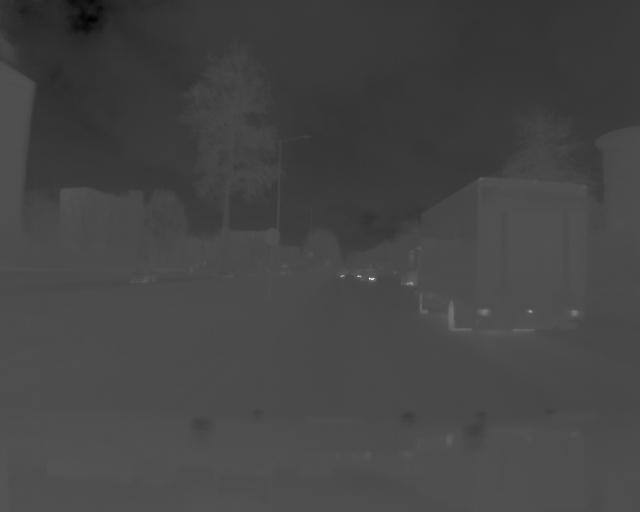car: (415, 177, 596, 335)
